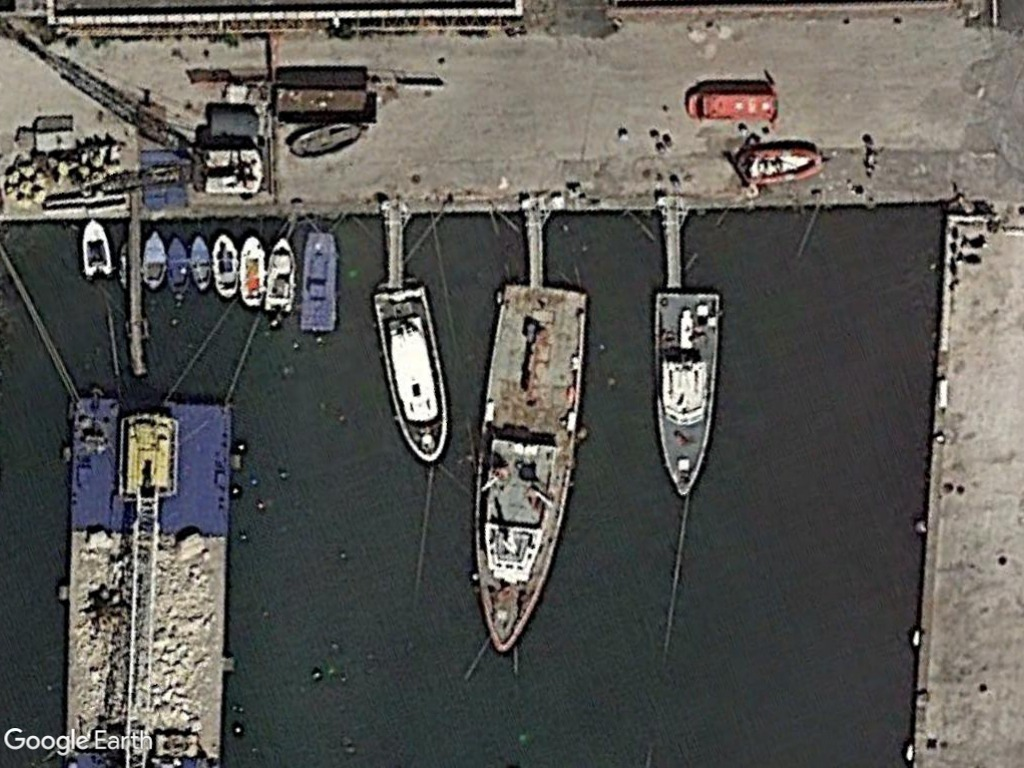boat: (463, 281, 592, 658), (646, 288, 724, 503), (369, 287, 455, 469), (735, 143, 829, 187), (263, 235, 298, 319), (235, 233, 268, 311), (77, 217, 117, 281), (208, 227, 240, 304), (138, 227, 167, 294), (163, 233, 192, 298), (185, 231, 213, 293)
